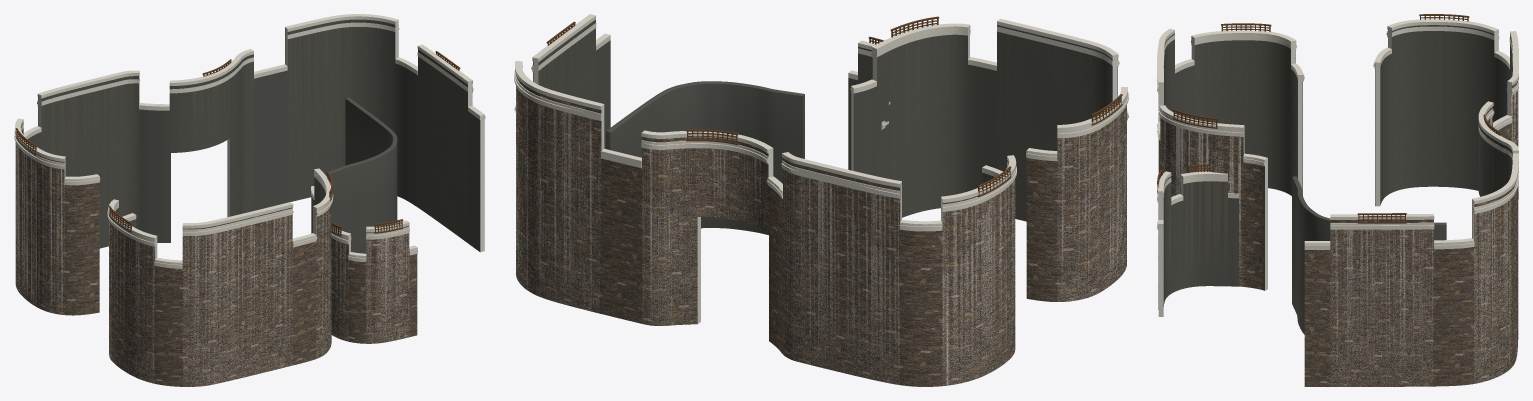
Rendered from heritage-rooflines.glb.
3 renders of one model, left to right at view 1: azimuth 30°, elevation 25°; view 2: azimuth 150°, elevation 25°; view 3: azimuth 270°, elevation 25°, orthographic. The views are drawn at different scales.
Visible parts, largest first — view 1: PROFILE Rijal | Rear wall, EXTERIOR Rijal | Front Left - textured outer finish, PROFILE Jeddah | Rear wall, EXTERIOR Rijal | Rear - textured outer finish, EXTERIOR Jeddah | Front Left - textured outer finish, EXTERIOR Rijal | Entry - textured outer finish, PROFILE Rijal | Inner wall, EXTERIOR Jeddah | Rear - textured outer finish, EXTERIOR Jeddah | Rear - rounded coping, EXTERIOR Jeddah | Entry - textured outer finish, EXTERIOR Rijal | Rear - rounded coping, EXTERIOR Jeddah | Front Left - rounded coping (+4 smaller); view 2: EXTERIOR Rijal | Rear - textured outer finish, EXTERIOR Jeddah | Rear - textured outer finish, PROFILE Rijal | Front Left wall, EXTERIOR Rijal | Front Left - textured outer finish, PROFILE Jeddah | Front Left wall, PROFILE Rijal | Inner wall, EXTERIOR Jeddah | Front Left - textured outer finish, EXTERIOR Jeddah | Rear - rounded coping, PROFILE Rijal | Rear wall, EXTERIOR Rijal | Rear - rounded coping, EXTERIOR Jeddah | Front Left - rounded coping, EXTERIOR Rijal | Front Left - rounded coping (+4 smaller); view 3: EXTERIOR Rijal | Rear - textured outer finish, PROFILE Rijal | Rear wall, PROFILE Rijal | Front Left wall, EXTERIOR Jeddah | Rear - textured outer finish, PROFILE Jeddah | Rear wall, PROFILE Rijal | Entry wall, EXTERIOR Rijal | Front Left - textured outer finish, PROFILE Jeddah | Front Left wall, PROFILE Jeddah | Entry wall, EXTERIOR Jeddah | Rear - rounded coping, EXTERIOR Rijal | Rear - rounded coping, PROFILE Rijal | Inner wall (+7 smaller).
Boxes of the visible parts, box(x1,y1,x2,y2) form: PROFILE Rijal | Rear wall: box(21, 19, 483, 252); EXTERIOR Rijal | Front Left - textured outer finish: box(109, 205, 331, 386); PROFILE Jeddah | Rear wall: box(21, 27, 471, 247); EXTERIOR Rijal | Rear - textured outer finish: box(15, 23, 484, 315); EXTERIOR Jeddah | Front Left - textured outer finish: box(109, 208, 331, 386); EXTERIOR Rijal | Entry - textured outer finish: box(331, 226, 417, 343); PROFILE Rijal | Inner wall: box(326, 97, 397, 253); EXTERIOR Jeddah | Rear - textured outer finish: box(15, 62, 472, 314); EXTERIOR Jeddah | Rear - rounded coping: box(14, 22, 485, 185); EXTERIOR Jeddah | Entry - textured outer finish: box(332, 234, 409, 343); EXTERIOR Rijal | Rear - rounded coping: box(15, 14, 484, 181); EXTERIOR Jeddah | Front Left - rounded coping: box(107, 172, 333, 268); EXTERIOR Rijal | Rear - textured outer finish: box(516, 61, 1015, 386); EXTERIOR Jeddah | Rear - textured outer finish: box(516, 87, 1015, 385); PROFILE Rijal | Front Left wall: box(851, 25, 1117, 221); EXTERIOR Rijal | Front Left - textured outer finish: box(872, 58, 1126, 301); PROFILE Jeddah | Front Left wall: box(873, 32, 1117, 219); PROFILE Rijal | Inner wall: box(606, 81, 804, 234); EXTERIOR Jeddah | Front Left - textured outer finish: box(1057, 69, 1126, 301); EXTERIOR Jeddah | Rear - rounded coping: box(514, 23, 1016, 231); PROFILE Rijal | Rear wall: box(522, 19, 1008, 323); EXTERIOR Rijal | Rear - rounded coping: box(515, 14, 1016, 226); EXTERIOR Jeddah | Front Left - rounded coping: box(850, 26, 1128, 160); EXTERIOR Rijal | Front Left - rounded coping: box(851, 18, 1127, 156); EXTERIOR Rijal | Rear - textured outer finish: box(1304, 30, 1518, 386); PROFILE Rijal | Rear wall: box(1375, 25, 1517, 239); PROFILE Rijal | Front Left wall: box(1159, 33, 1302, 290); EXTERIOR Jeddah | Rear - textured outer finish: box(1330, 91, 1518, 386); PROFILE Jeddah | Rear wall: box(1388, 31, 1512, 239); PROFILE Rijal | Entry wall: box(1158, 176, 1238, 316); EXTERIOR Rijal | Front Left - textured outer finish: box(1158, 45, 1302, 290); PROFILE Jeddah | Front Left wall: box(1159, 40, 1293, 192); PROFILE Jeddah | Entry wall: box(1160, 180, 1227, 300); EXTERIOR Jeddah | Rear - rounded coping: box(1304, 26, 1518, 249); EXTERIOR Rijal | Rear - rounded coping: box(1304, 19, 1518, 245); PROFILE Rijal | Inner wall: box(1292, 176, 1446, 334).
Size of the model in its own units: 11.98 by 5.03 by 8.99.
Materials: 8 (2 with a texture image).
